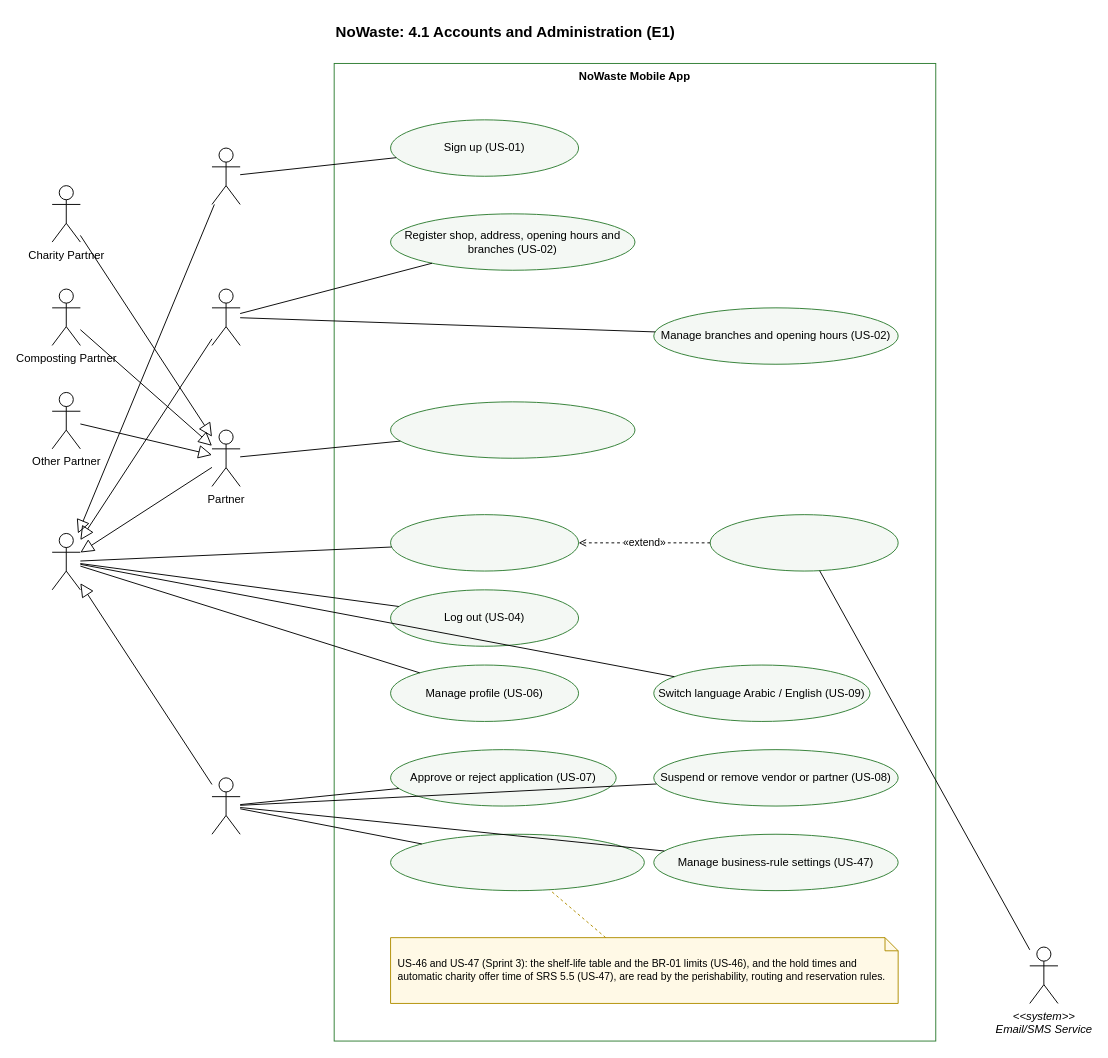
Image size: 1108x1058. Some labels were removed from this diagram. The shapes that lost their labels are listed below. From the top down, each one's centre as x and y in pixels, then its label:
At point (225, 175): "Consumer".
At point (225, 316): "Vendor".
At point (512, 429): "Register as partner with accepted food types (US-03)".
At point (65, 561): "User".
At point (484, 542): "Log in (US-04)".
At point (803, 542): "Reset password (US-05)".
At point (225, 805): "Admin".
At point (517, 862): "Manage food categories and perishability rules (US-46)".
